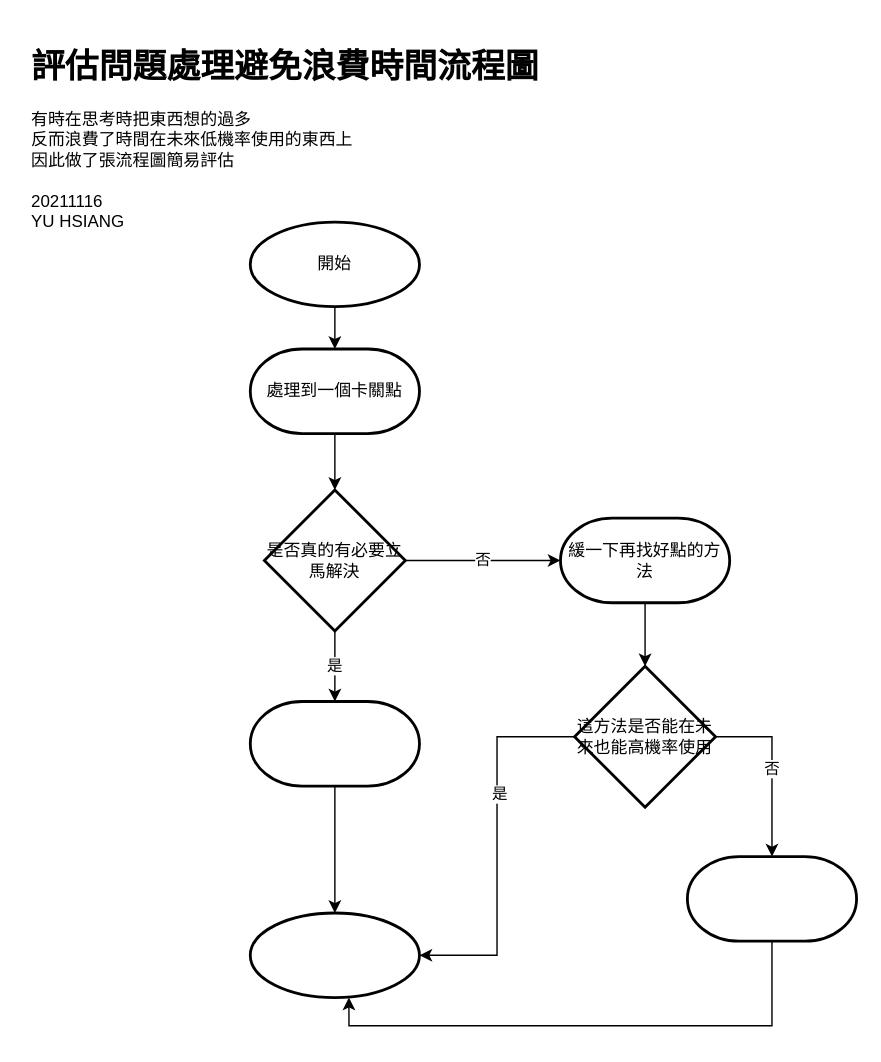
This 881x1062 diagram has some shape labels left out. Each missing label, with the centre of its shape:
"找個方法快速度過" goes at point (334, 743).
"沒有適合的解那就用快速的方法度過" goes at point (771, 898).
"結束" goes at point (334, 954).
